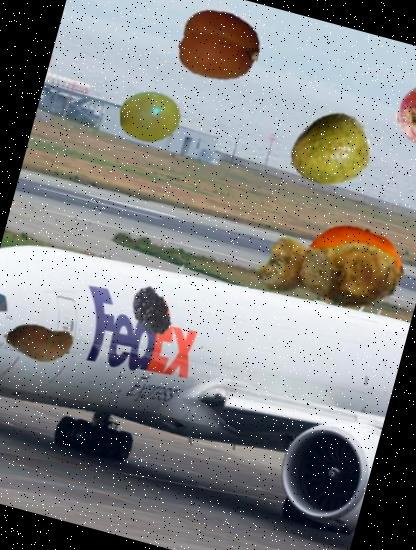Apricot: (170, 0, 269, 95)
Ginger: (238, 180, 416, 364)
Grape: (112, 80, 188, 156)
Guava: (280, 100, 380, 200)
Lemon: (292, 204, 416, 329)
Mulberry: (110, 278, 180, 348)
Onion: (389, 78, 416, 155)
Potato: (0, 302, 80, 385)
